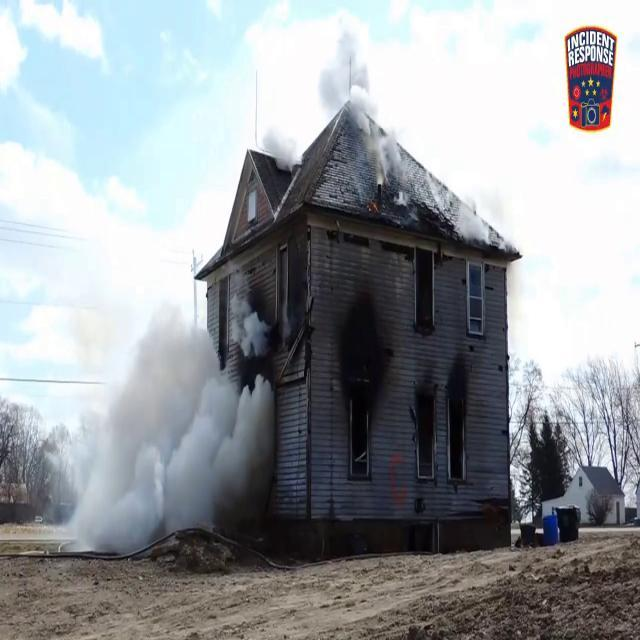Smoke: (5, 256, 278, 555), (312, 10, 410, 206), (453, 185, 513, 255)
